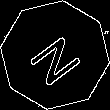N_NE: (23, 24, 87, 86)
